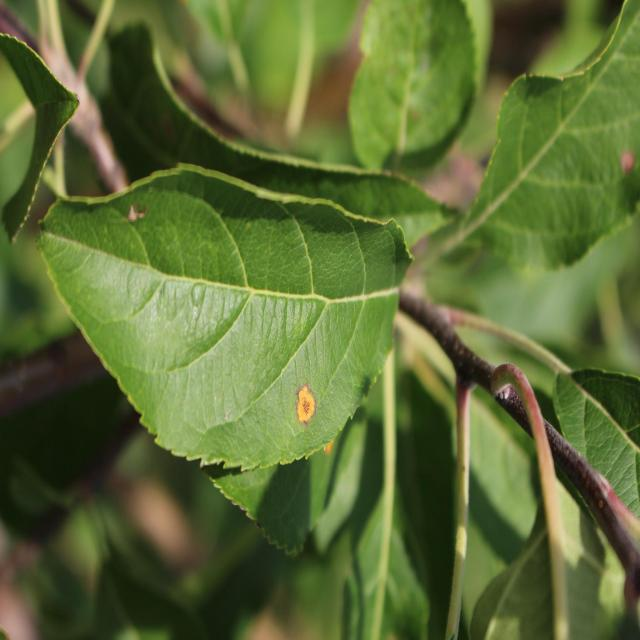Rust: (286, 363, 320, 440)
